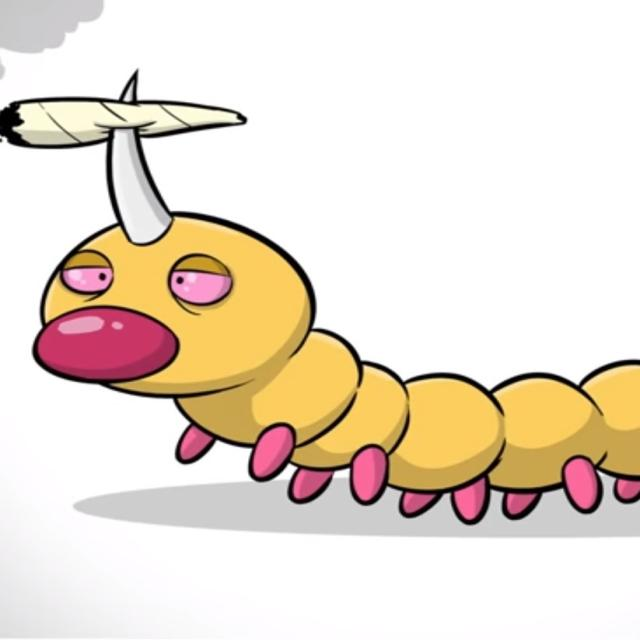Weedle: (7, 68, 640, 550)
